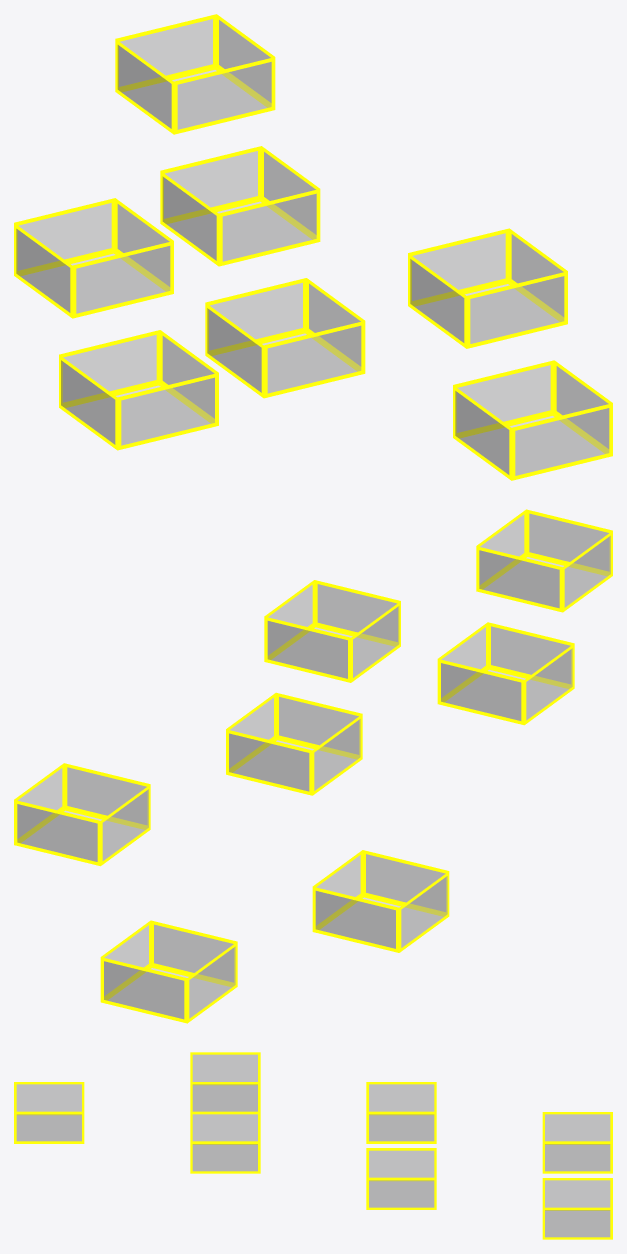
The model's file is (5)H GPlat.fbx.
3 views of the same model, one above another, from view 1: azimuth 30°, elevation 25°; view 2: azimuth 150°, elevation 25°; view 3: azimuth 270°, elevation 25° (orthographic). The views are drawn at different scales.
Visible parts, largest first — view 1: Platform.006, Platform.009, Platform.005, Platform.007, Platform.002, Platform.004, Platform.003; view 2: Platform.003, Platform.007, Platform.005, Platform.002, Platform.006, Platform.009, Platform.004; view 3: Platform.002, Platform.003, Platform.004, Platform.006, Platform.007, Platform.009, Platform.005.
Boxes of the visible parts, left/top/right/bottom form: Platform.006: left=160, top=146, right=320, bottom=266; Platform.009: left=115, top=14, right=275, bottom=134; Platform.005: left=205, top=278, right=365, bottom=398; Platform.007: left=14, top=198, right=173, bottom=318; Platform.002: left=453, top=360, right=612, bottom=480; Platform.004: left=408, top=228, right=567, bottom=348; Platform.003: left=59, top=330, right=218, bottom=450; Platform.003: left=312, top=850, right=449, bottom=952; Platform.007: left=100, top=920, right=237, bottom=1023; Platform.005: left=437, top=622, right=574, bottom=725; Platform.002: left=476, top=509, right=612, bottom=612; Platform.006: left=226, top=692, right=362, bottom=795; Platform.009: left=14, top=763, right=150, bottom=866; Platform.004: left=264, top=580, right=400, bottom=682; Platform.002: left=14, top=1082, right=84, bottom=1143; Platform.003: left=366, top=1148, right=436, bottom=1209; Platform.004: left=190, top=1112, right=260, bottom=1173; Platform.006: left=366, top=1082, right=436, bottom=1143; Platform.007: left=542, top=1178, right=612, bottom=1239; Platform.009: left=542, top=1112, right=612, bottom=1173; Platform.005: left=190, top=1052, right=260, bottom=1111.
Size of the model in its own units: 600 by 400 by 1700.
